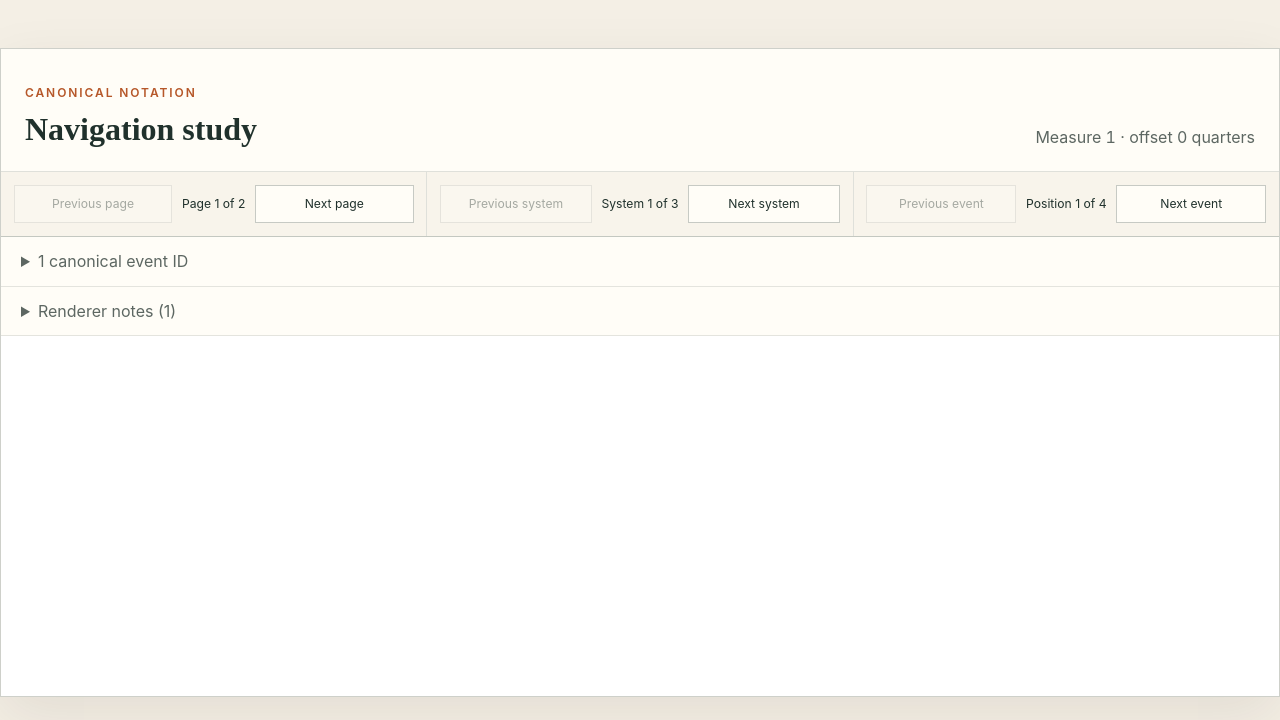
Test: TEST-APP-NOTATION-003 navigates canonical events, systems, and pages
The width and height of the screenshot is (1280, 720).
Expected: the text "Measure 1 · offset 0 quarters" is shown, [1035,127,1255,147]
Step 1. Click the button "Next event" → x=1191, y=204, box [1116,185,1266,223]
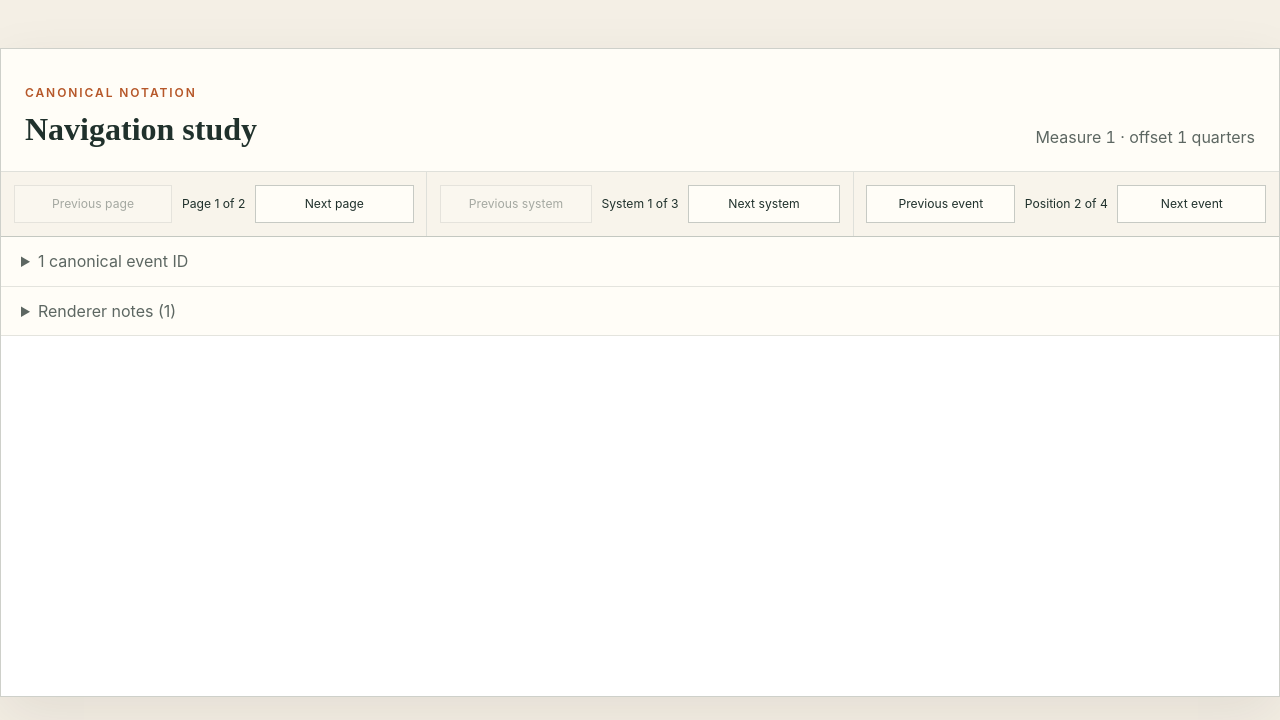
Expected: the text "Measure 1 · offset 1 quarters" is shown, [1035,127,1255,147]
Step 2. Click the button "Next system" → x=764, y=204, box [688,185,840,223]
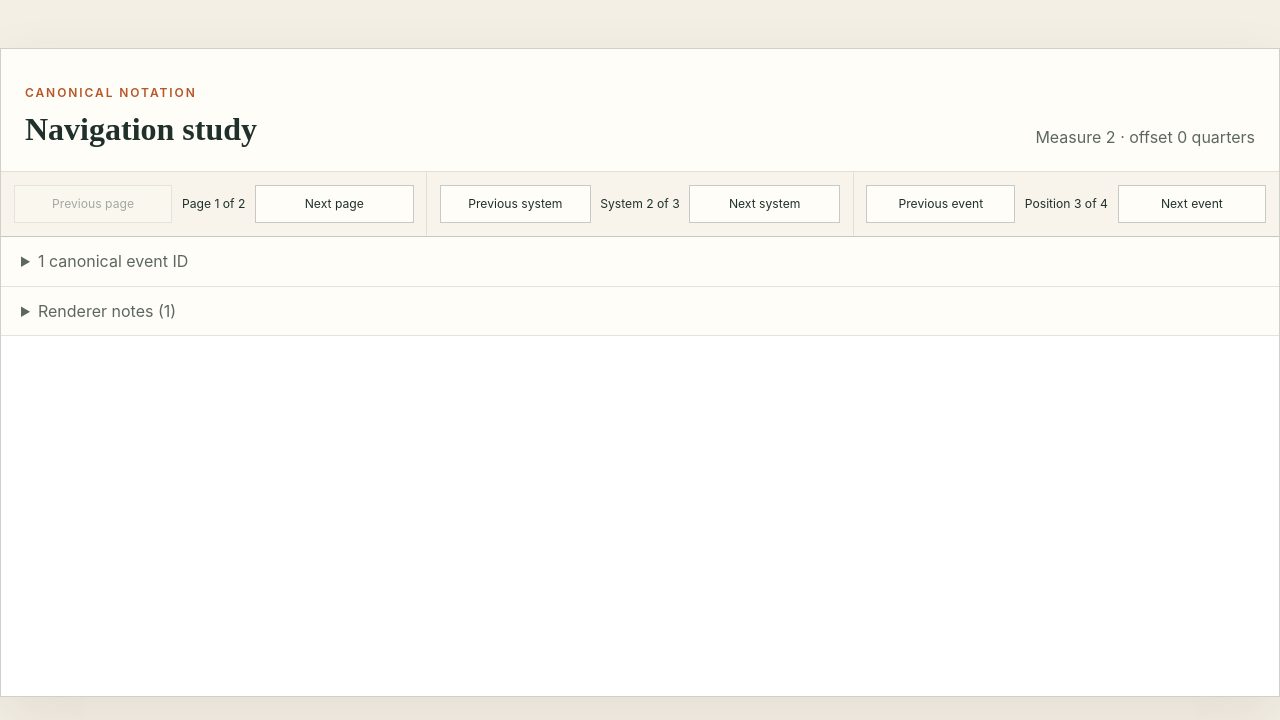
Expected: the text "Measure 2 · offset 0 quarters" is shown, [1035,127,1255,147]
Expected: the text "System 2 of 3" is shown, [600,196,680,212]
Step 3. Click the button "Next page" → x=334, y=204, box [255,185,414,223]
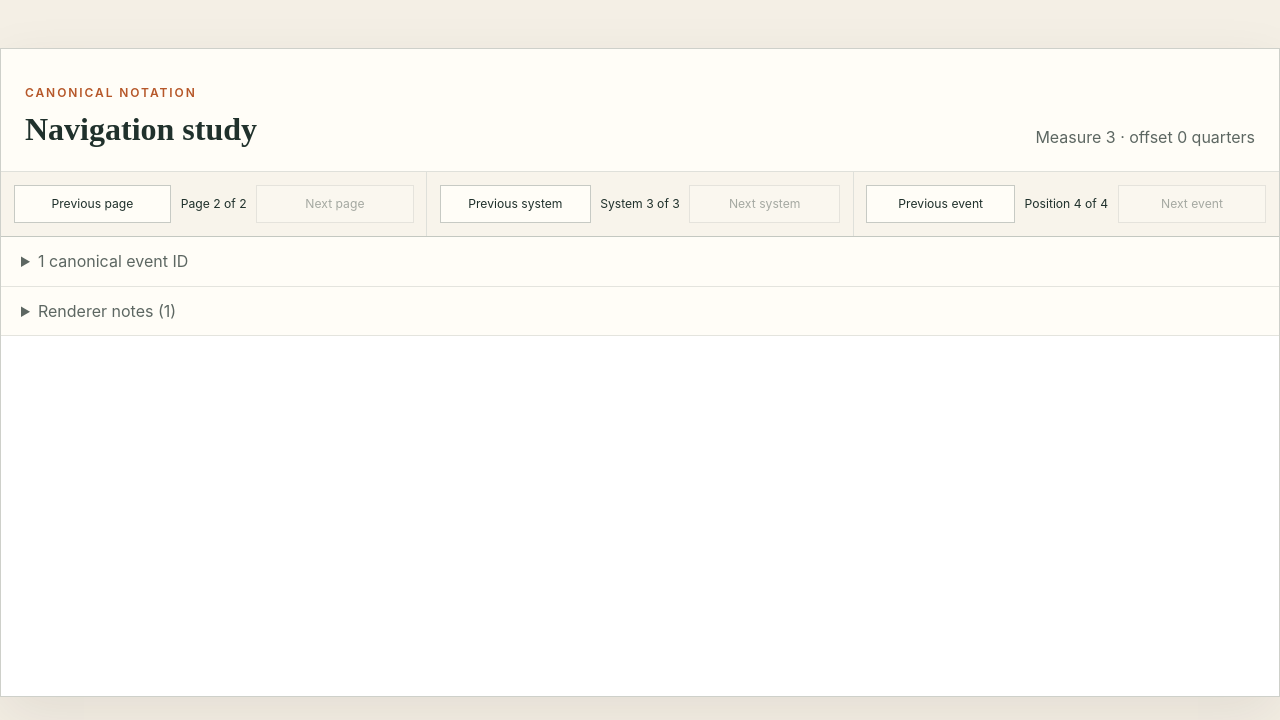
Expected: the heading "Renderer notes (1)" is shown, [38,301,176,321]
Expected: the text "Measure 3 · offset 0 quarters" is shown, [1035,127,1255,147]
Expected: the text "Page 2 of 2" is shown, [181,196,247,212]
